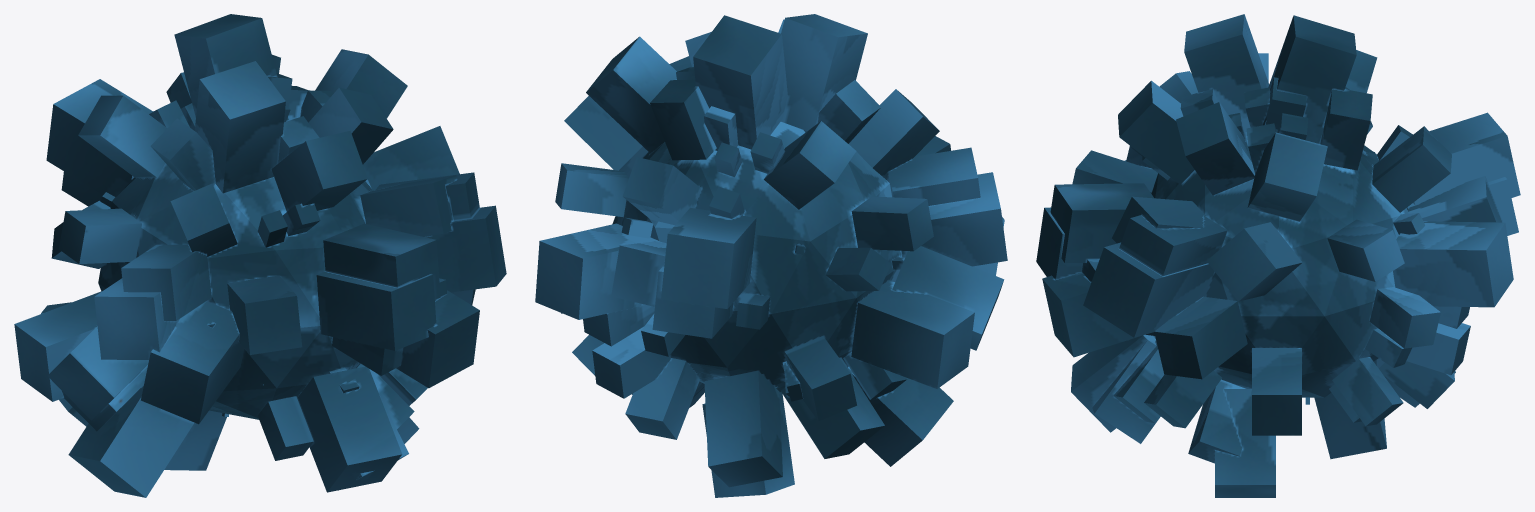
File: virus_covid19.fbx
3 views of the same model, side by side, from view 1: azimuth 30°, elevation 25°; view 2: azimuth 150°, elevation 25°; view 3: azimuth 270°, elevation 25° (orthographic). The views are drawn at different scales.
Visible parts, largest first — view 1: Cube.001; view 2: Cube.001; view 3: Cube.001.
Boxes of the visible parts, x1,y1,x2,y2 form: Cube.001: (14,14,506,497); Cube.001: (535,14,1007,497); Cube.001: (1036,14,1520,497).
Bounding box in the file's own units: 309 × 329 × 327.
1 material, 1 textured.
